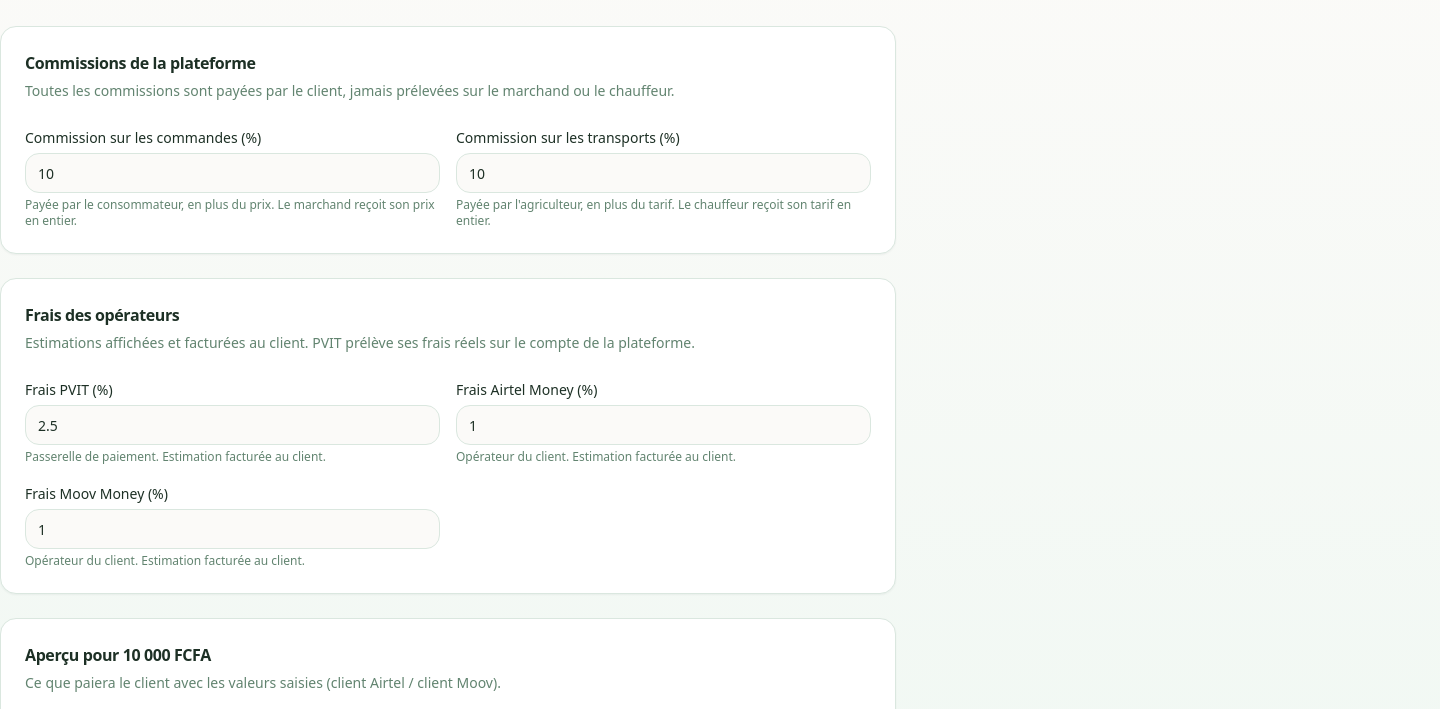
AdminFeesPage › shows the server's error when the save is rejected
Replace the text in the field with id "order_commission_rate" with "12": x=232, y=173 [25,153,440,193]
(page scrolled)
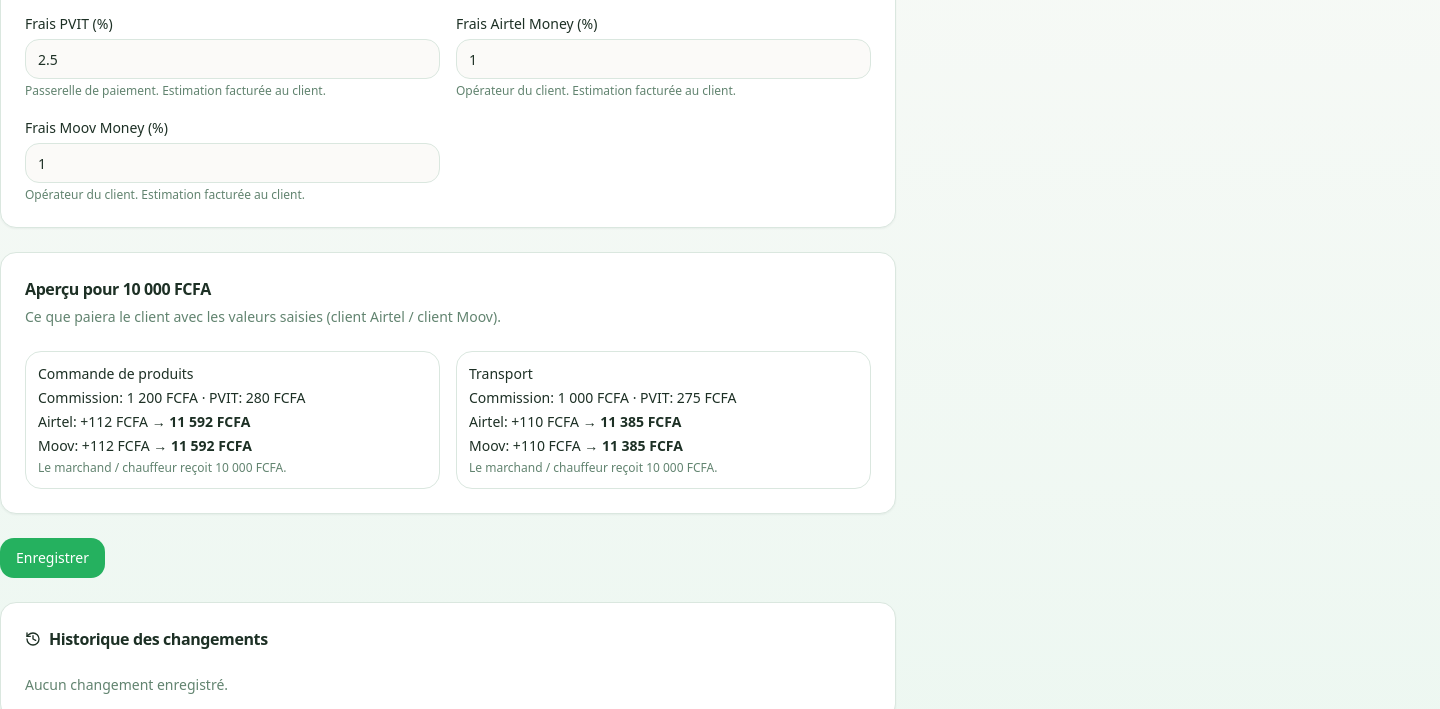
Click the button "Enregistrer": x=52, y=558 [0,538,105,578]
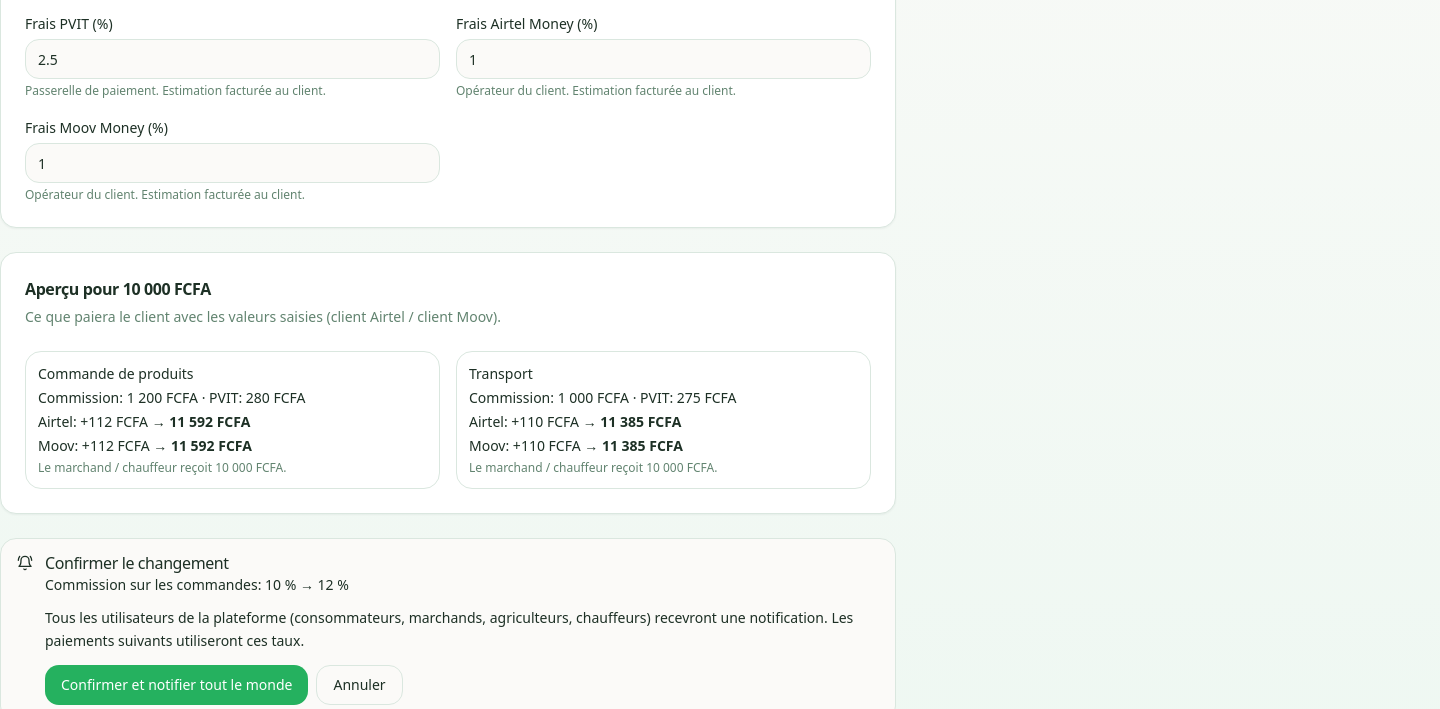
Click the button "Confirmer et notifier tout le monde": x=177, y=684 [45,664,308,704]
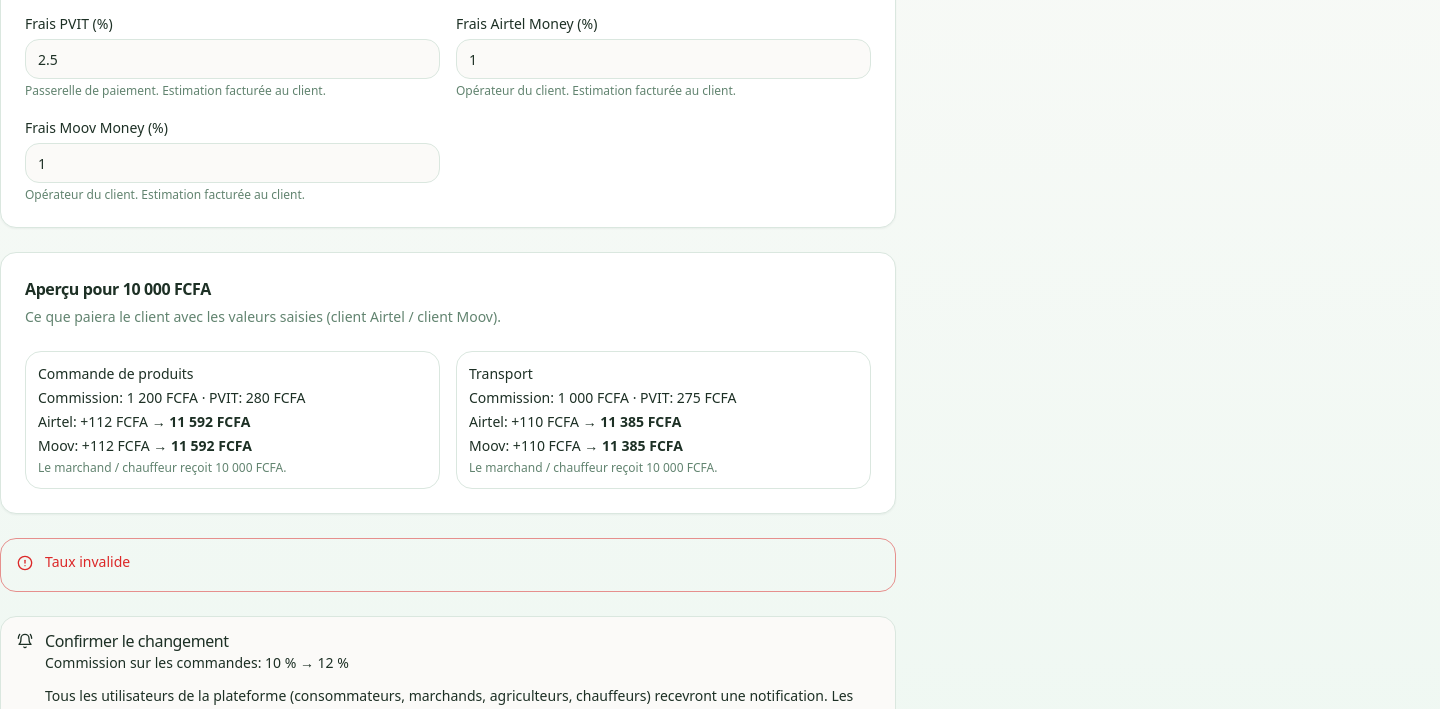
Now the text "Taux invalide" is shown, box [45,552,130,571]
